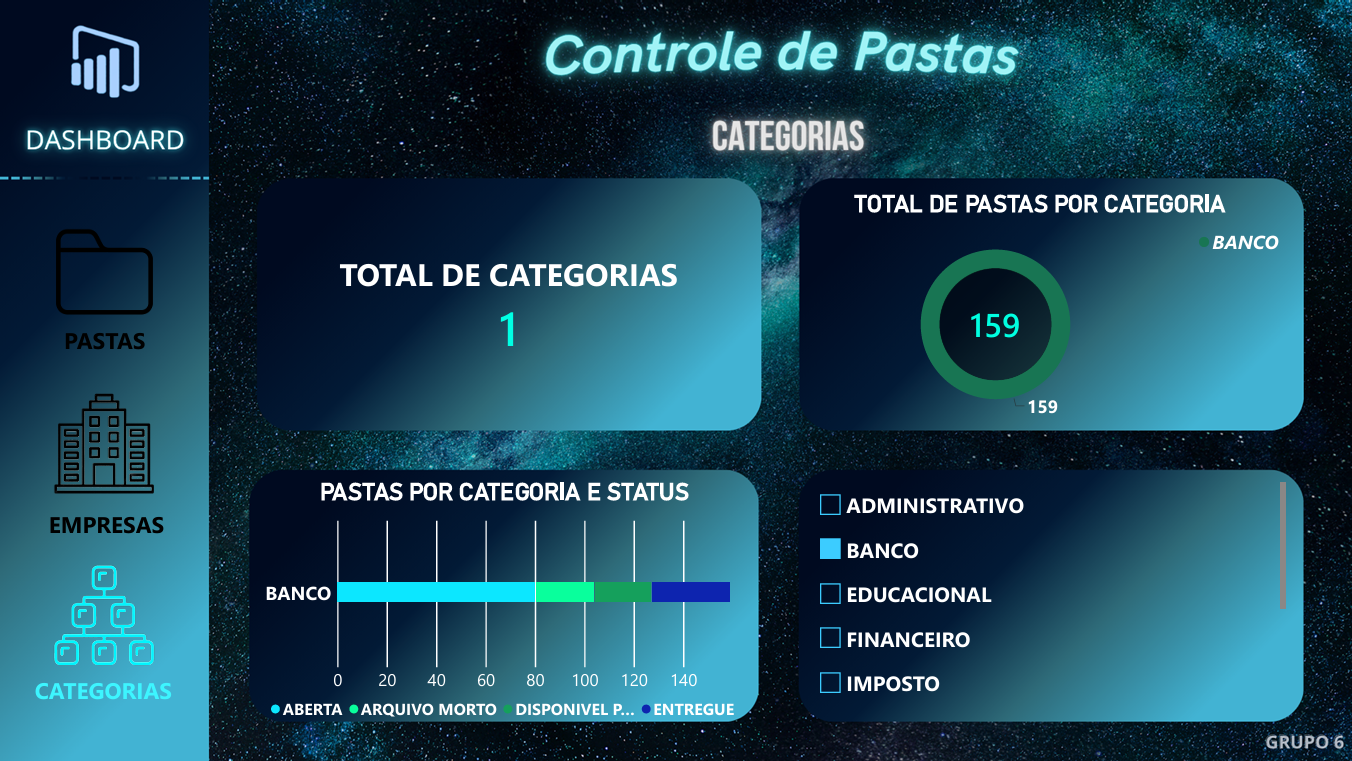

This screenshot's page, from the dashboard's own definition file:
{"tool":"powerbi","page":{"name":"CATEGORIA","canvas":[1920,1080],"ordinal":2},"visuals":[{"type":"image","box":[0,0,1920,1080],"z":0},{"type":"image","box":[75.1,310,146.1,148.2],"z":1000},{"type":"image","box":[75,520,145,212.5],"z":2000},{"type":"image","box":[75.1,767.7,145.3,203.4],"z":3000},{"type":"cardVisual","fields":{"Data":["CATEGORIA.TOTAL CATEGORIAS"]},"box":[457.7,254.3,525.5,356],"z":4000},{"type":"barChart","title":"PASTAS POR CATEGORIA E STATUS","fields":{"Category":["CATEGORIA.NOME"],"Series":["STATUS.NOME"],"Y":["PASTA.TOTAL PASTAS"]},"box":[358.1,660.7,712.2,376.7],"z":5000},{"type":"slicer","fields":{"Values":["CATEGORIA.NOME"]},"box":[1152.8,680.5,668.4,319.7],"z":6000},{"type":"donutChart","title":"TOTAL DE PASTAS POR CATEGORIA","fields":{"Category":["CATEGORIA.NOME"],"Y":["PASTA.TOTAL PASTAS"]},"box":[1108.6,253.4,727.4,356.5],"z":7000},{"type":"textbox","box":[82.3,457.7,128.4,48.4],"z":8000},{"type":"textbox","box":[57.5,717.5,177.5,50],"z":9000},{"type":"textbox","box":[40,952.5,212.5,47.5],"z":10000}]}

Visuals, with their boxes in screenshot pixels (x1, y1, x2, y2), scaled from the page's 1920x1080 canvas onto the 1352x761 screenshot:
image: <box>0,0,1351,760</box>
image: <box>53,218,156,323</box>
image: <box>53,366,155,516</box>
image: <box>53,541,155,684</box>
cardVisual - CATEGORIA.TOTAL CATEGORIAS: <box>322,179,692,430</box>
"PASTAS POR CATEGORIA E STATUS" barChart: <box>252,466,754,731</box>
slicer - CATEGORIA.NOME: <box>812,480,1282,705</box>
"TOTAL DE PASTAS POR CATEGORIA" donutChart: <box>781,179,1293,430</box>
textbox: <box>58,323,148,357</box>
textbox: <box>40,506,165,541</box>
textbox: <box>28,671,178,705</box>
